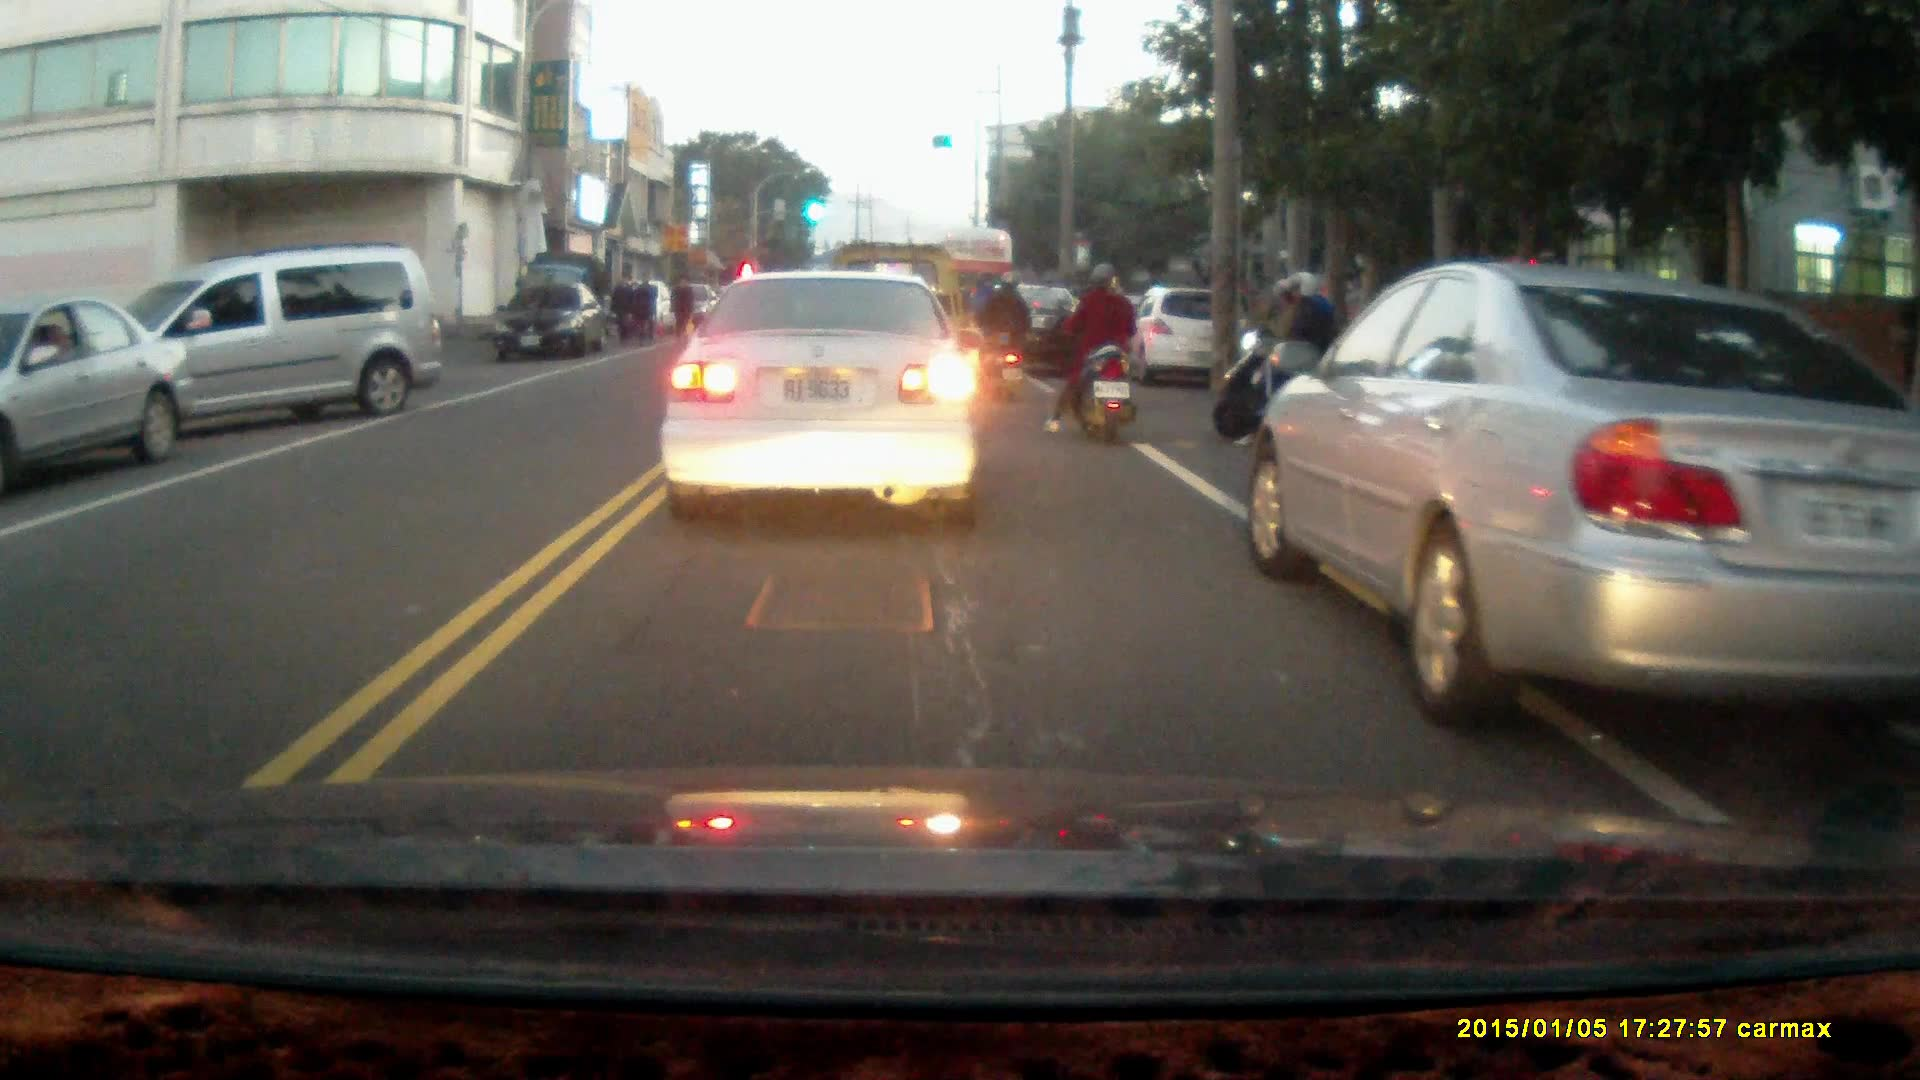pedestrian: (607, 271, 635, 346), (631, 271, 657, 346), (668, 271, 696, 338)
rider: (1213, 266, 1348, 450), (1043, 261, 1139, 443), (962, 268, 1028, 397)
vehicle: (1246, 258, 1920, 728), (664, 271, 987, 533), (82, 249, 440, 448), (1, 297, 198, 497), (968, 284, 1108, 384), (1126, 287, 1239, 392), (497, 280, 612, 362)
